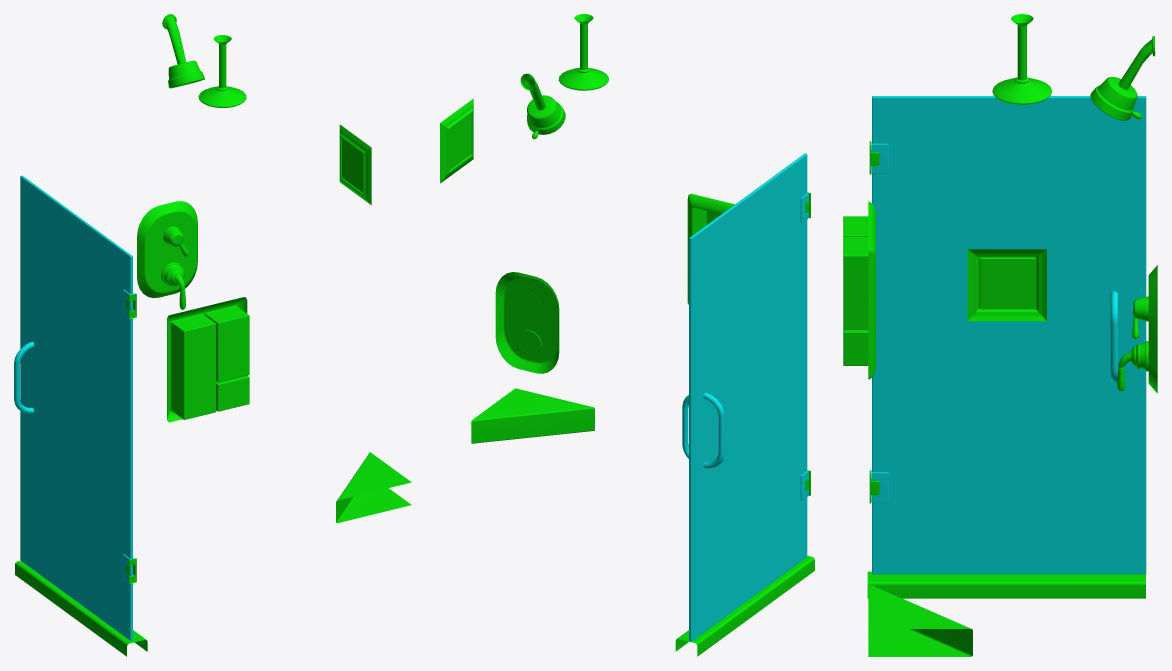
Rendered from Shower_1.fbx.
3 renders of one model, left to right at view 1: azimuth 30°, elevation 25°; view 2: azimuth 150°, elevation 25°; view 3: azimuth 270°, elevation 25°, orthographic. The views are drawn at different scales.
Parts seen in each view (by area): view 1: Shower_DoorA, Shower_1_mesh, Shower_DoorB, Shower_1_knob01; view 2: Shower_DoorA, Shower_1_mesh, Shower_DoorB; view 3: Shower_DoorA, Shower_1_mesh, Shower_DoorB, Shower_1_knob01, Shower_1_knob02.
Boxes of the visible parts, x1,y1,x2,y2 form: Shower_DoorA: (20, 175, 132, 640); Shower_1_mesh: (15, 14, 411, 656); Shower_DoorB: (14, 289, 133, 581); Shower_1_knob01: (161, 262, 185, 309); Shower_DoorA: (689, 153, 807, 641); Shower_1_mesh: (440, 14, 814, 656); Shower_DoorB: (682, 193, 808, 500); Shower_DoorA: (872, 96, 1146, 574); Shower_1_mesh: (843, 14, 1157, 656); Shower_DoorB: (871, 142, 1118, 502); Shower_1_knob01: (1117, 341, 1148, 391); Shower_1_knob02: (1132, 296, 1148, 339).
Size of the model in its own units: 143 by 244 by 105.
